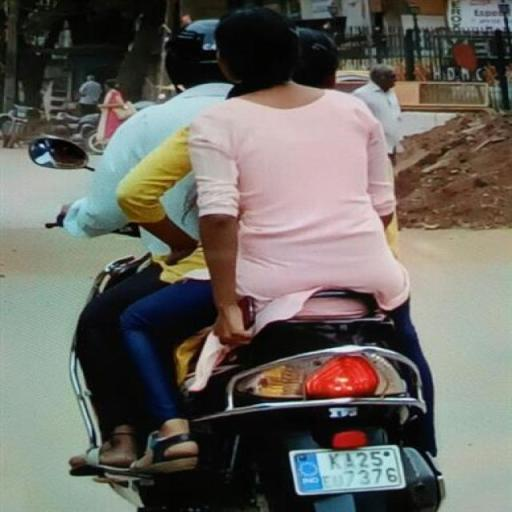tripple riding: (7, 7, 503, 337)
